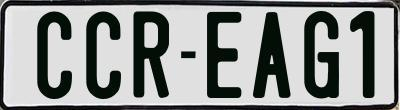1: (349, 9, 375, 102)
A: (251, 12, 290, 102)
C: (86, 11, 123, 101), (37, 10, 74, 98)
E: (205, 10, 244, 101)
G: (301, 8, 341, 102)
R: (131, 8, 171, 95)
